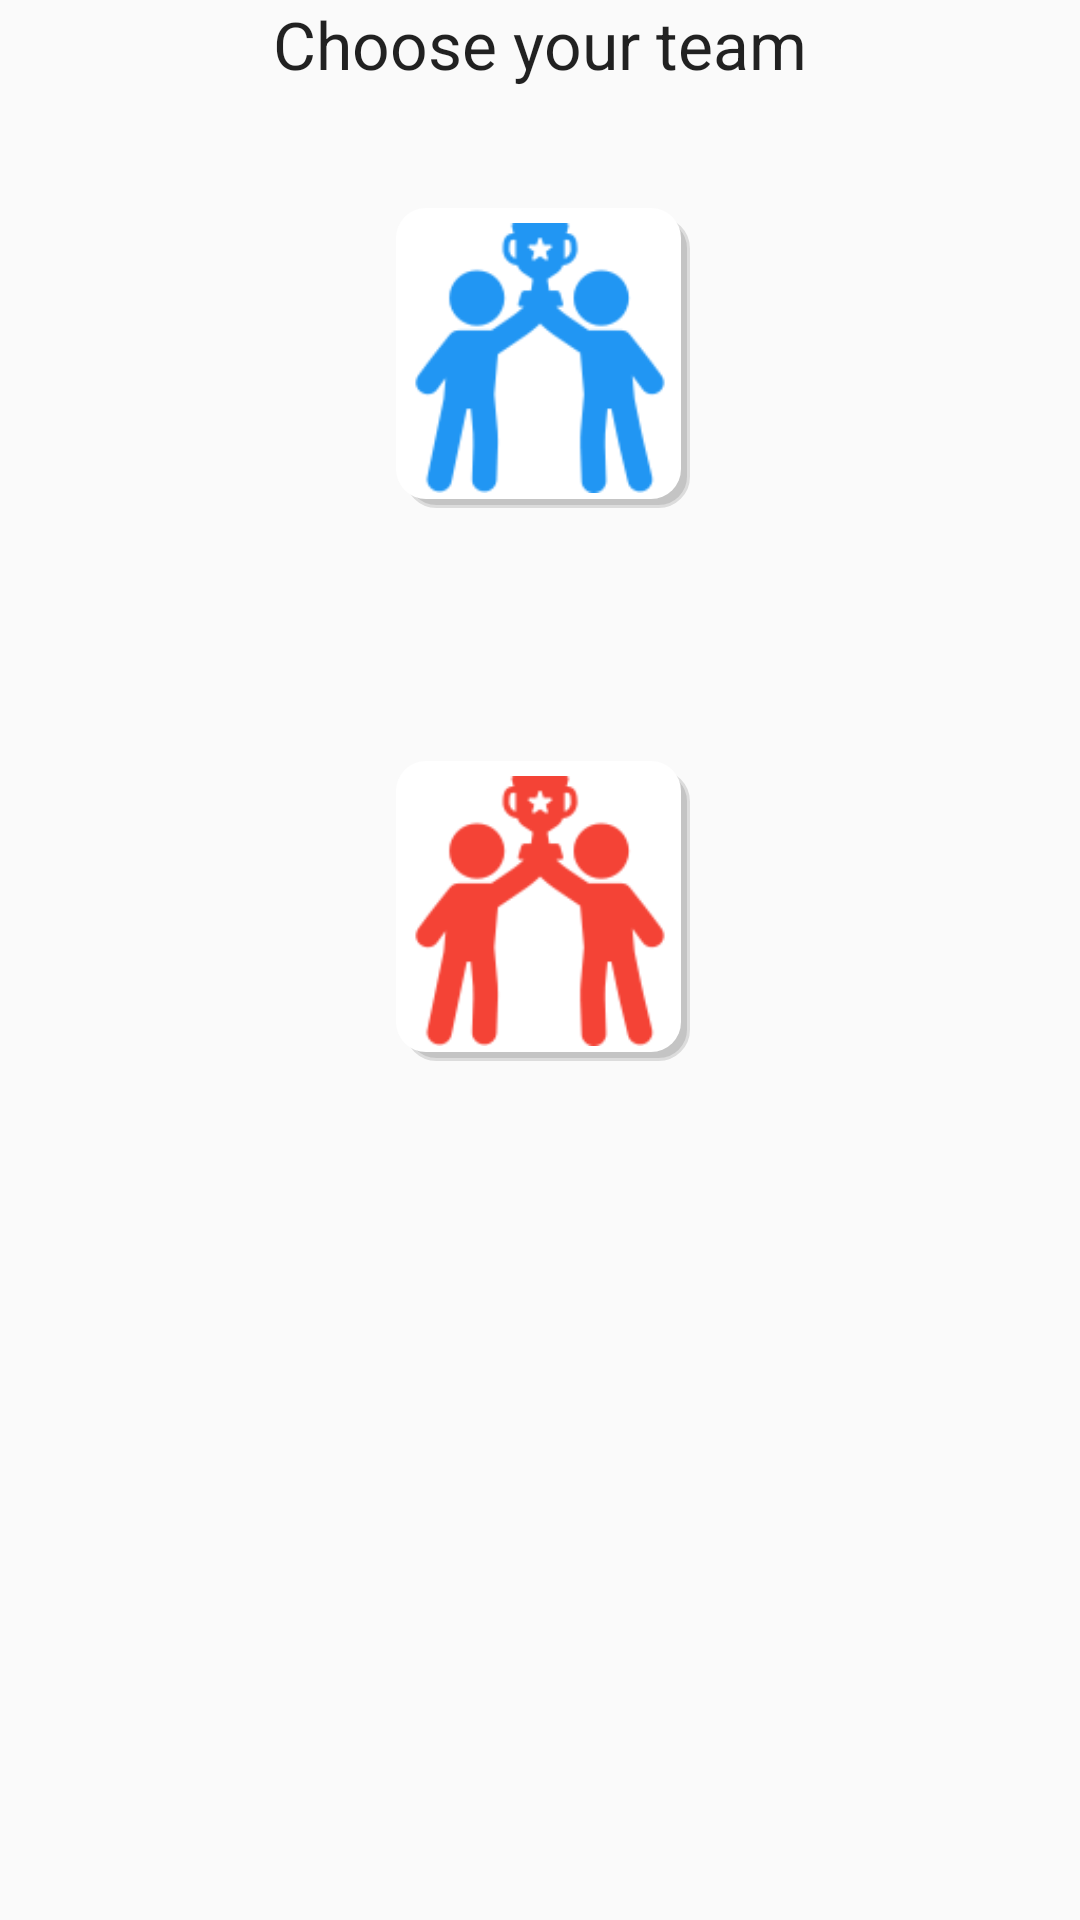

Where to tap for icons on this 1080px×1920px app screen, as [x,y]:
winnersblue: [551,365]
winnersred: [551,918]
